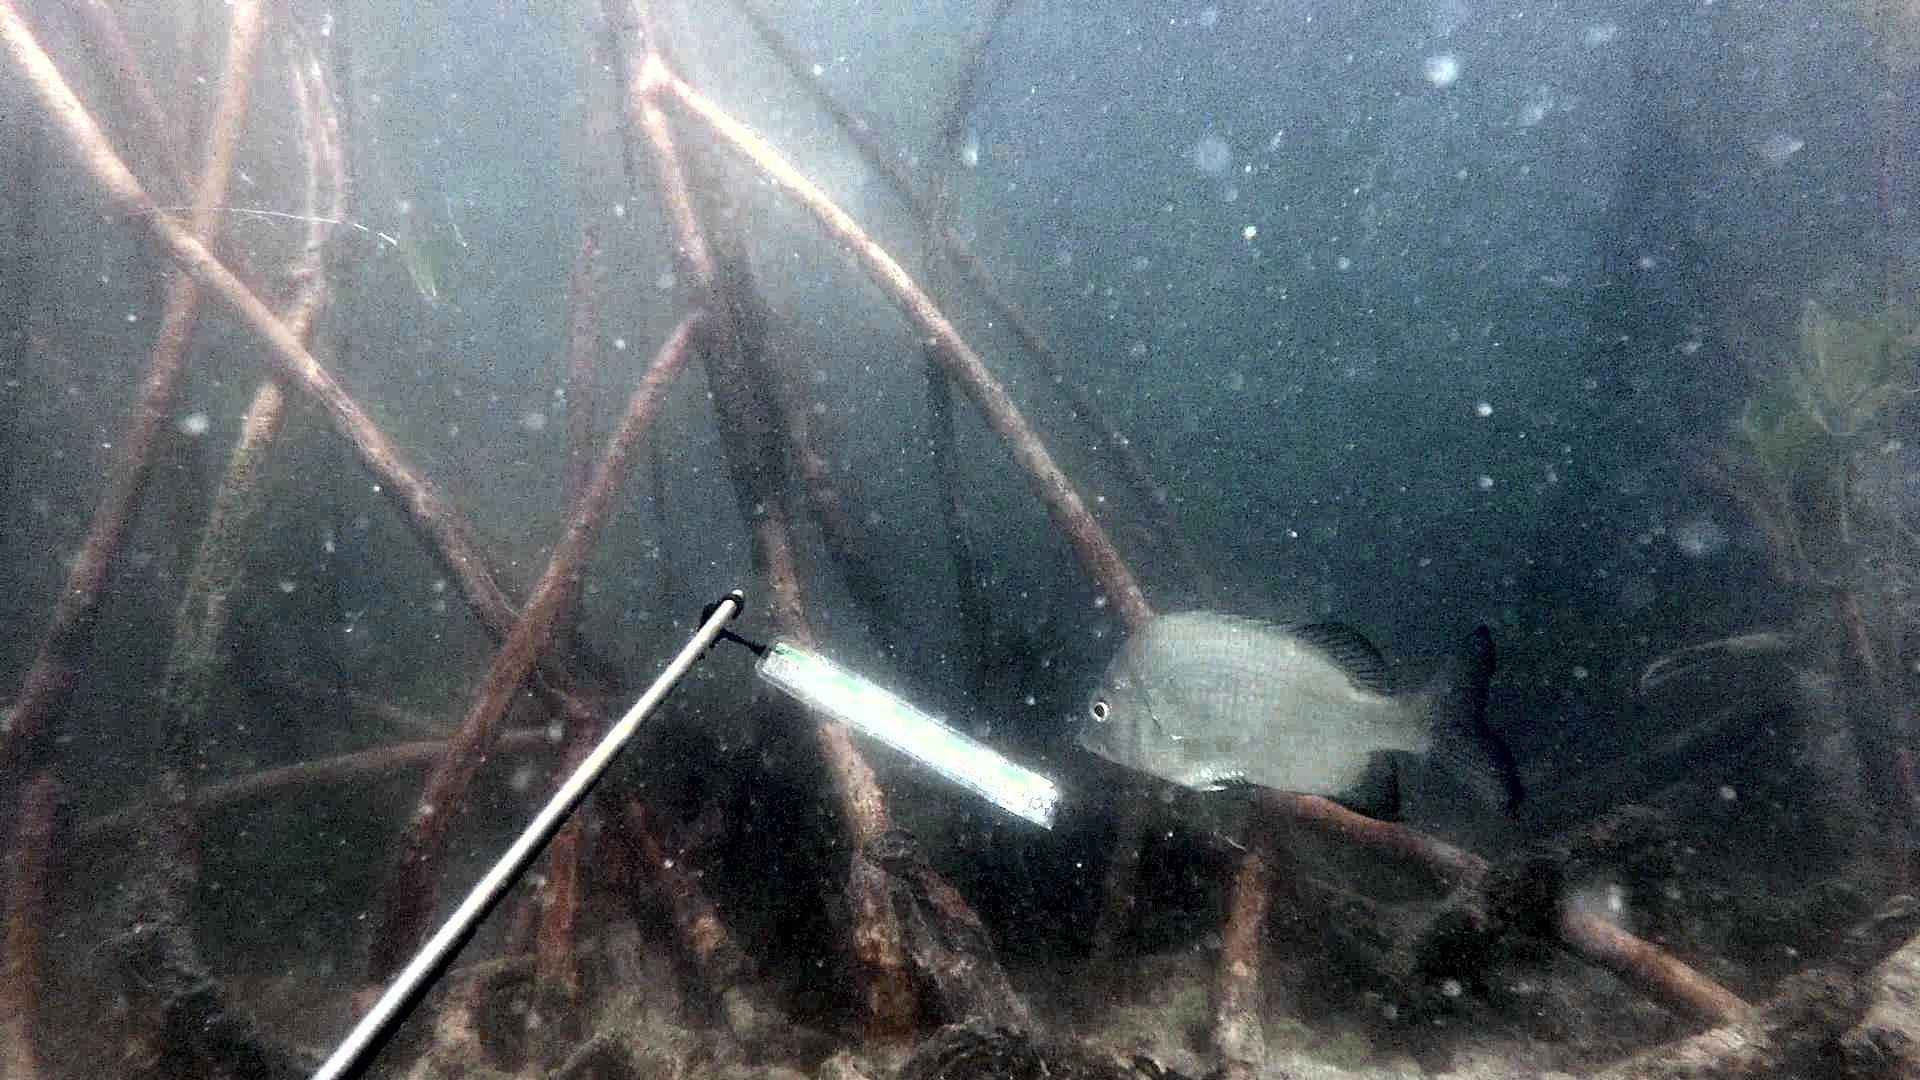acanthopagrus palmaris: (1067, 604, 1528, 855)
